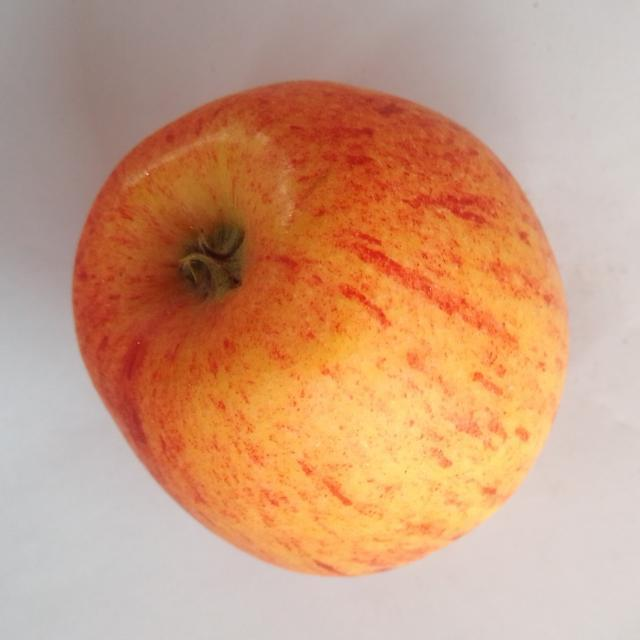Fresh Apple: (77, 90, 558, 573)
